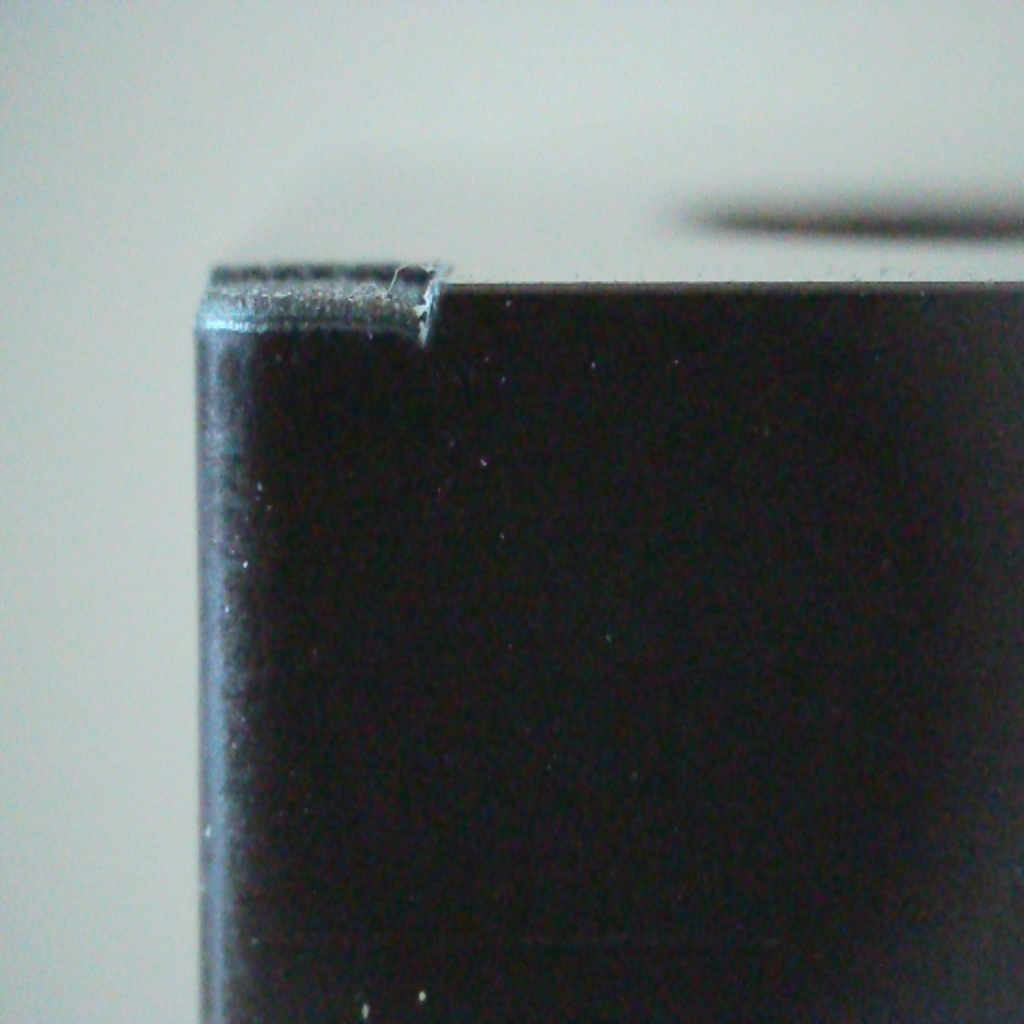flank_wear: (185, 264, 453, 354)
